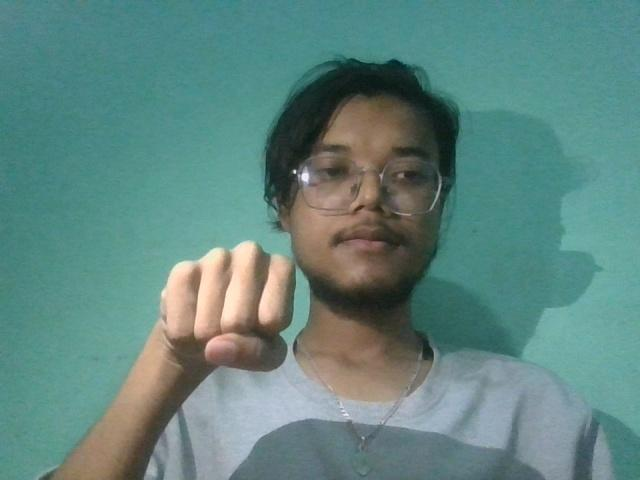Yes: (141, 225, 305, 389)
